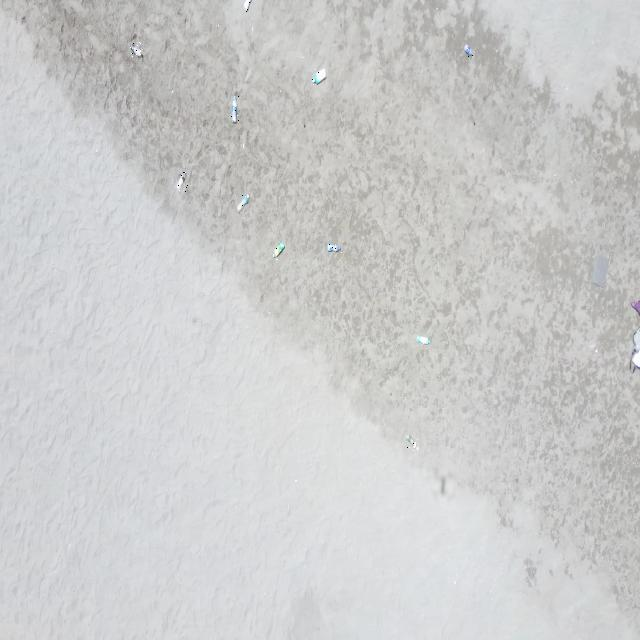Garbage: (592, 255, 607, 286), (630, 328, 639, 371), (236, 193, 248, 211), (176, 172, 187, 190), (313, 68, 326, 83), (272, 241, 283, 256), (230, 96, 236, 121), (632, 351, 639, 371), (633, 328, 639, 351), (131, 42, 140, 56), (415, 335, 430, 343), (327, 243, 340, 252), (406, 435, 415, 448), (464, 44, 472, 56), (631, 300, 639, 312), (243, 0, 251, 11), (440, 476, 444, 493)
